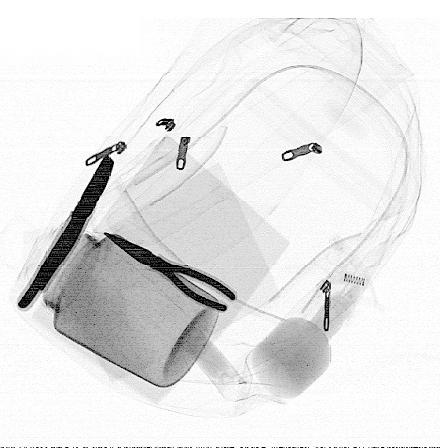Pliers: (12, 152, 115, 315), (100, 230, 238, 314)
